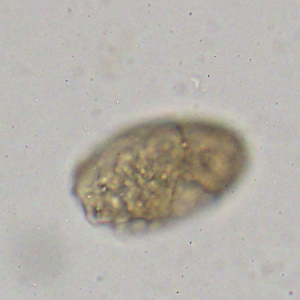Fasciola_hepatica_egg: (70, 115, 249, 236)
